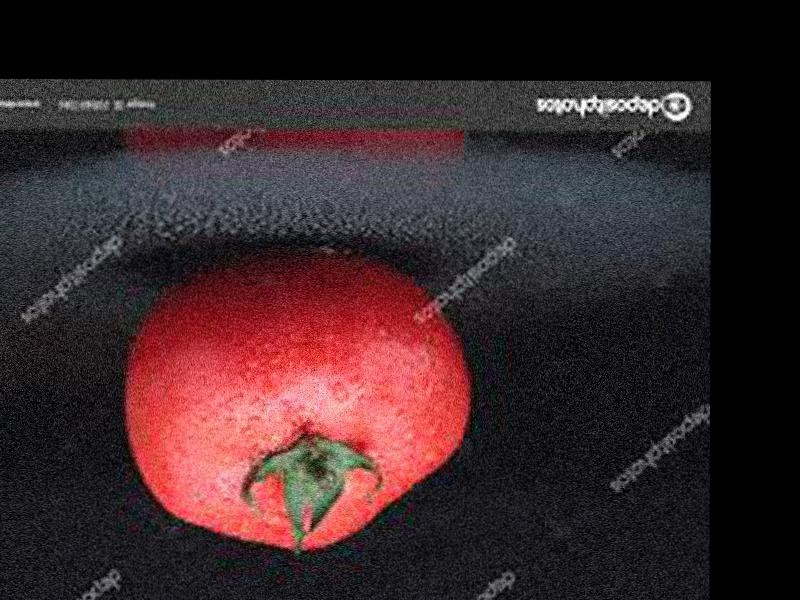Tomato: (122, 251, 472, 553)
